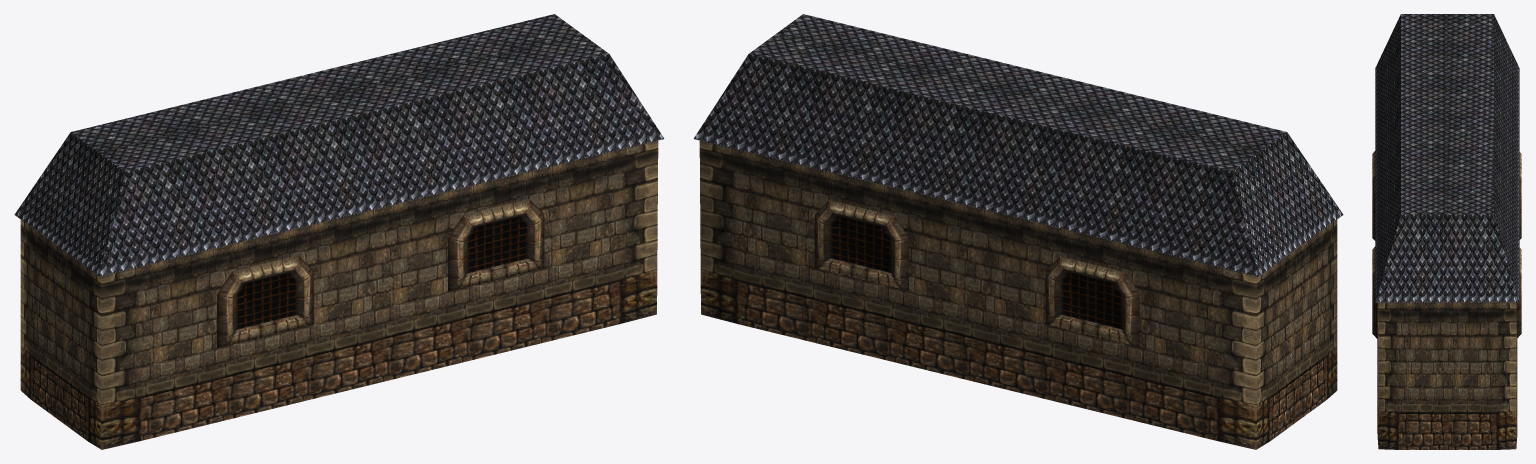
The model's file is loc1_06.glb.
3 renders of one model, left to right at view 1: azimuth 30°, elevation 25°; view 2: azimuth 150°, elevation 25°; view 3: azimuth 270°, elevation 25°, orthographic. The views are drawn at different scales.
Parts seen in each view (by area): view 1: loc1_06; view 2: loc1_06; view 3: loc1_06.
Part boxes in pixels (x1,y1,x2,y2): loc1_06: (14,14,664,449); loc1_06: (693,14,1343,449); loc1_06: (1372,14,1521,449).
Bounding box in the file's own units: 28.38 × 12.43 × 7.65.
Materials: 2 (2 with a texture image).
